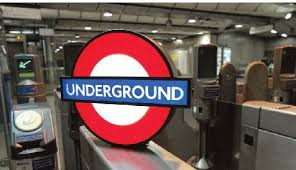London Underground: (61, 30, 190, 146)
